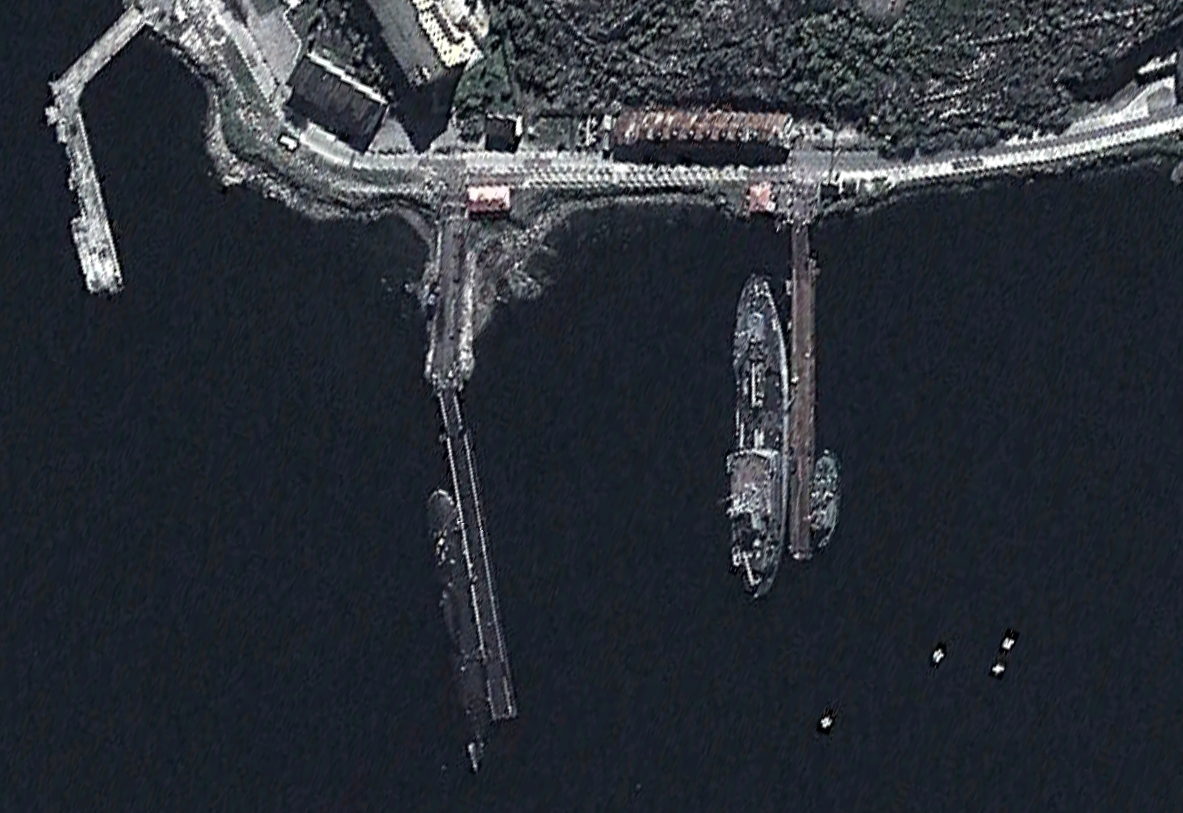merchant ship: (723, 272, 779, 601), (810, 449, 838, 550)
submarine: (423, 487, 485, 770)
